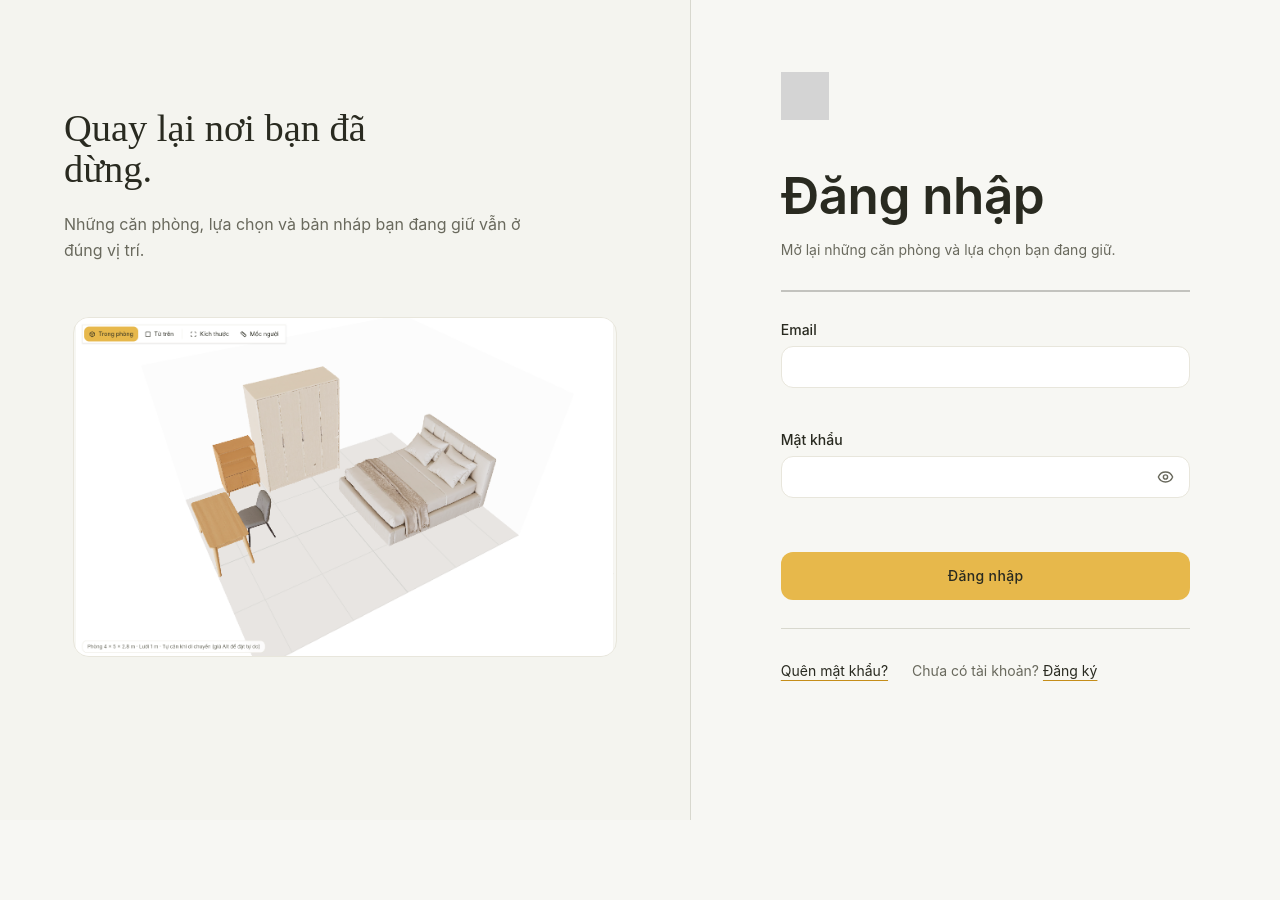
Scenario: LoginPage › shows validation errors when submitting an empty form
Click the button "Đăng nhập" at coordinates (986, 576), box [781, 552, 1190, 600]
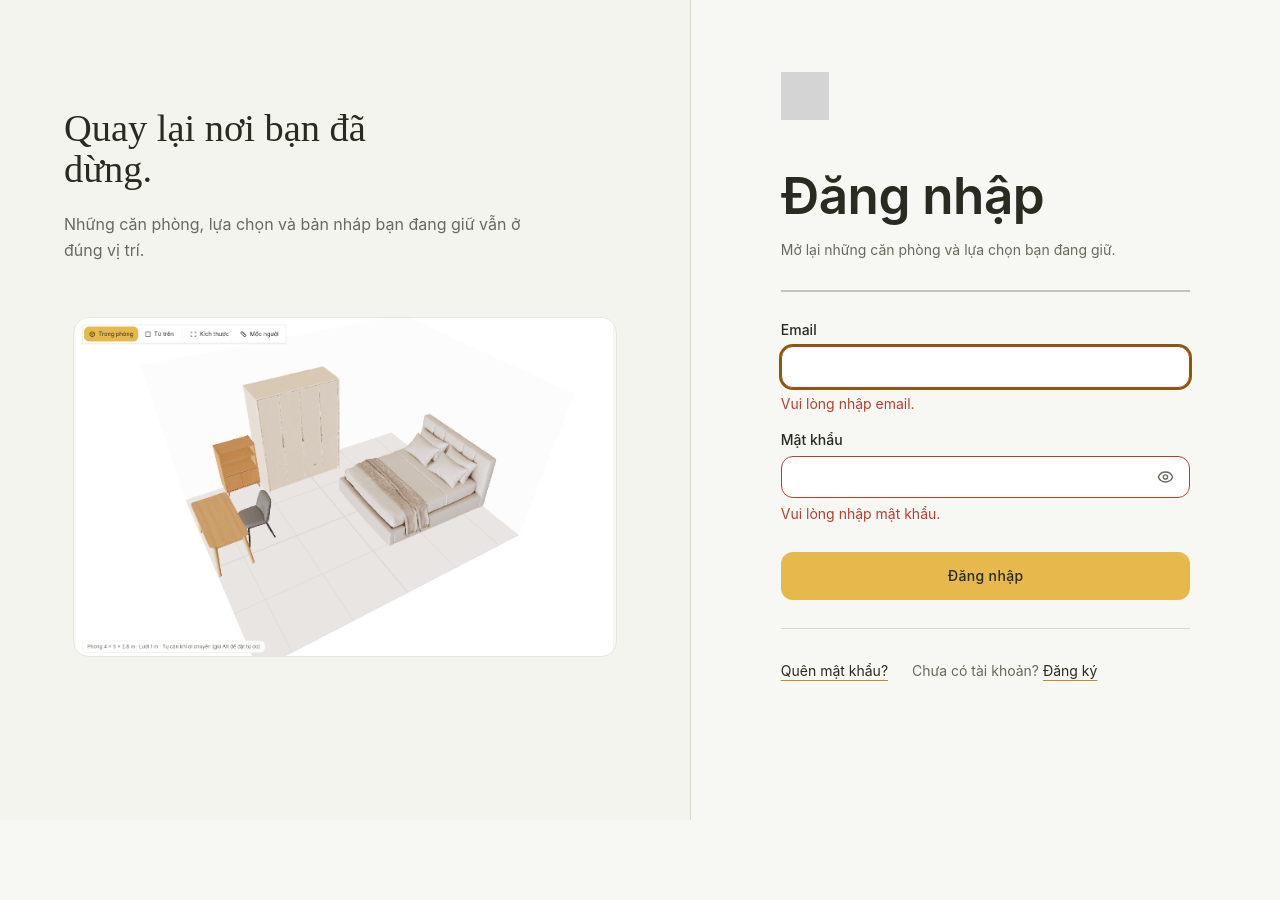
Check: the text "Vui lòng nhập email." is shown, box [781, 395, 915, 412]
Check: the text "Vui lòng nhập mật khẩu." is shown, box [781, 505, 940, 522]
